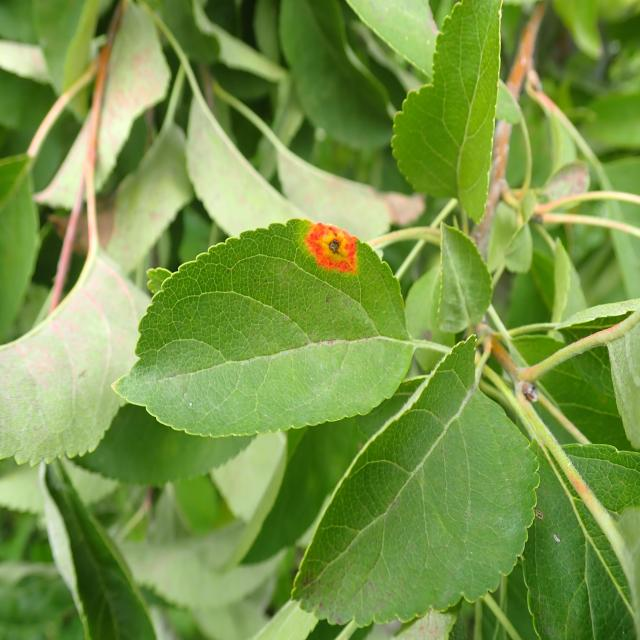rust: (109, 218, 415, 438)
